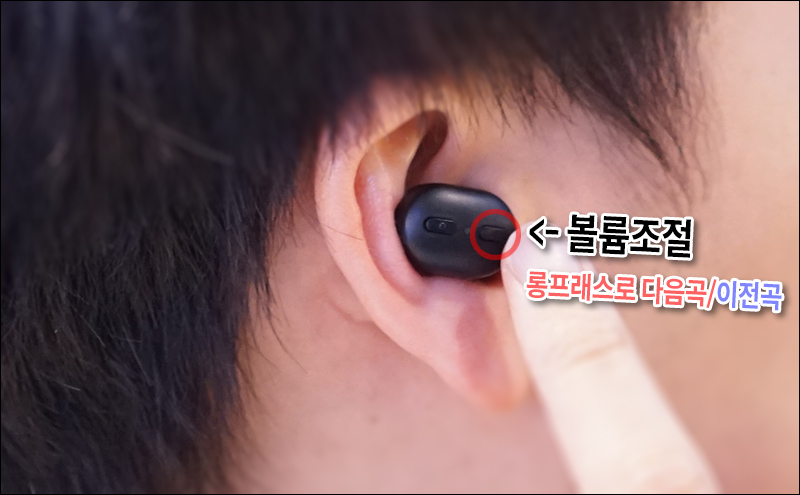earphone: (310, 70, 538, 413)
